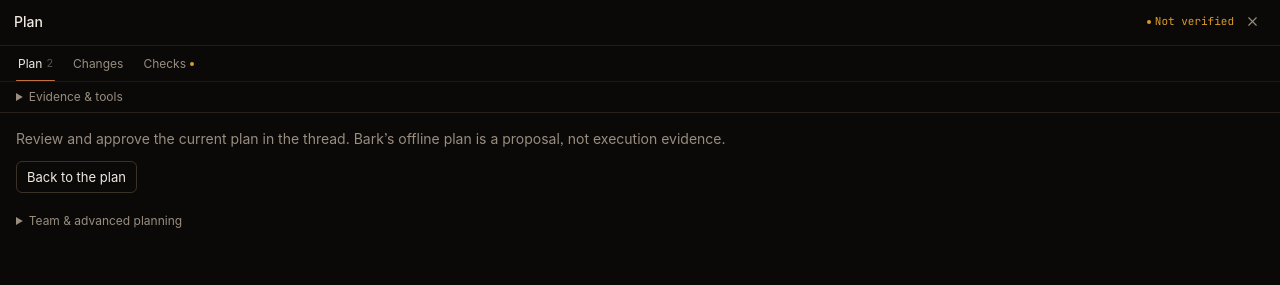
Test: InspectorPane › shows the receipt empty state when the card has no merge receipt
Click the heading "Evidence & tools". click: (76, 96)
box: [29, 89, 123, 104]
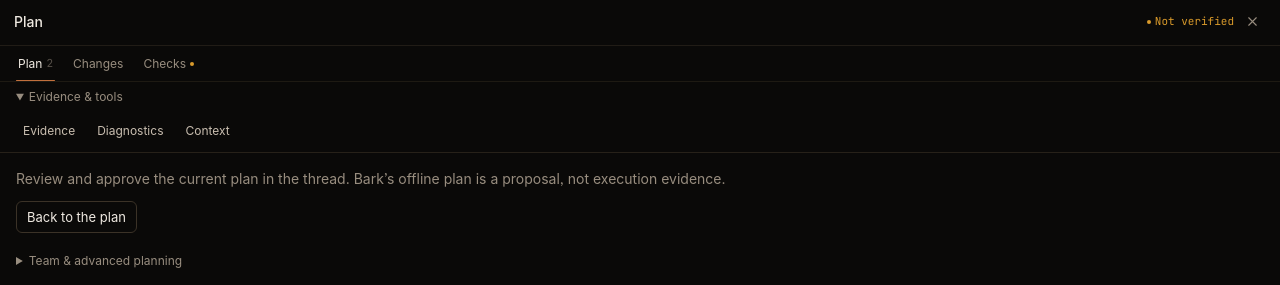
Click the button "Evidence". click: (49, 131)
box: [16, 116, 82, 146]
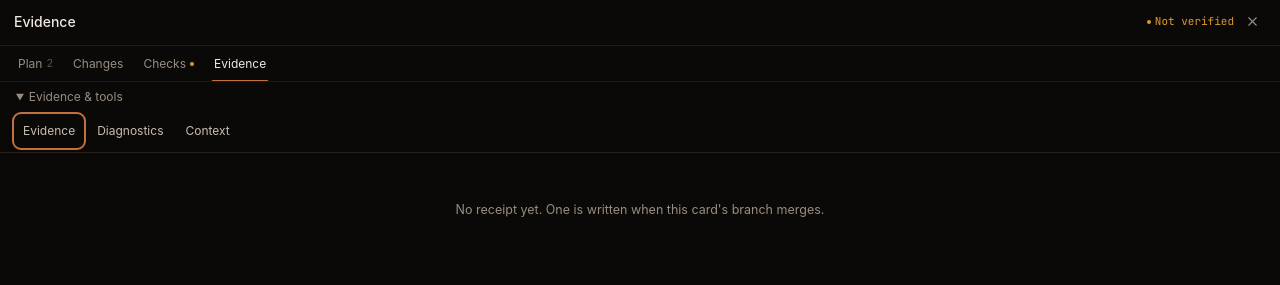
Result: the text "No receipt yet" is shown at [456, 202, 824, 217]
